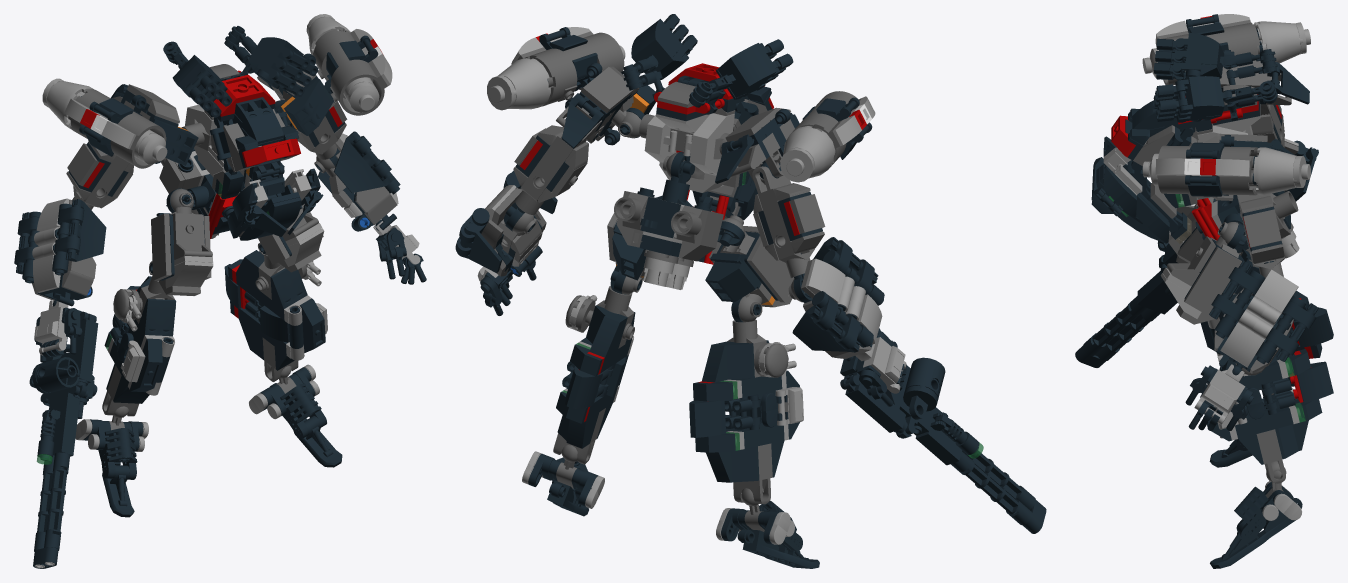
The model's file is rt-7138-firebat-titan.dae.
3 views of the same model, side by side, from view 1: azimuth 30°, elevation 25°; view 2: azimuth 150°, elevation 25°; view 3: azimuth 270°, elevation 25° (orthographic). The views are drawn at different scales.
Size of the model in its own units: 658 by 323 by 635.
